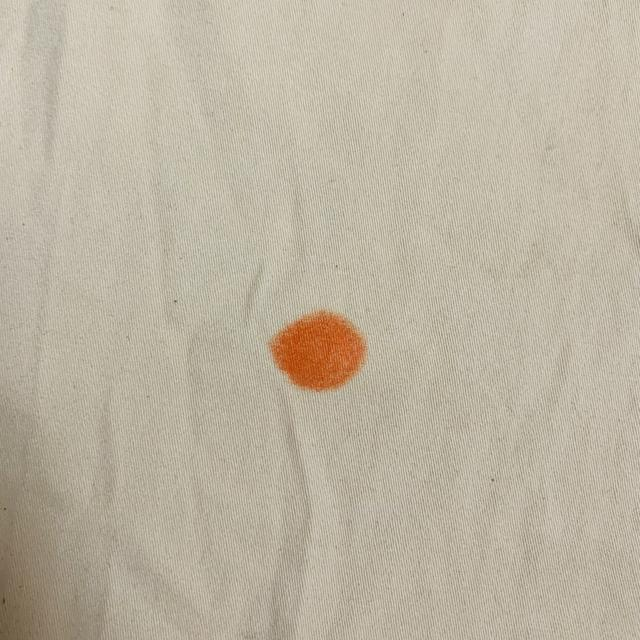Stain: (271, 312, 367, 390)
